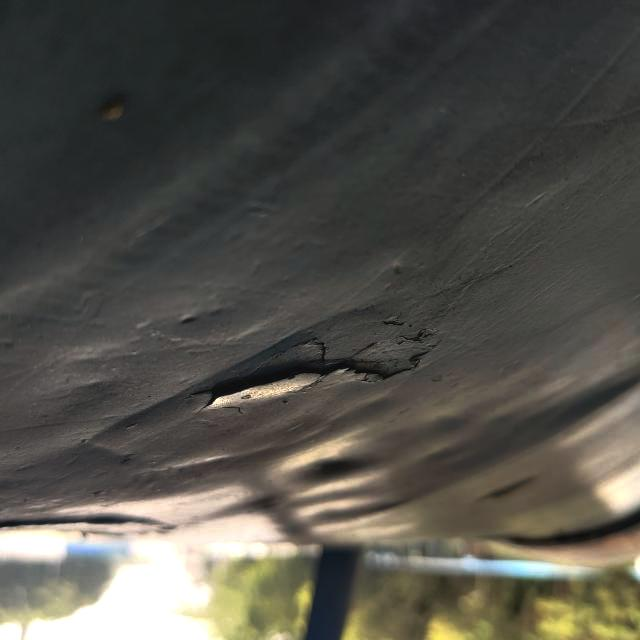crack: (181, 320, 450, 418)
dent: (267, 422, 397, 512)
